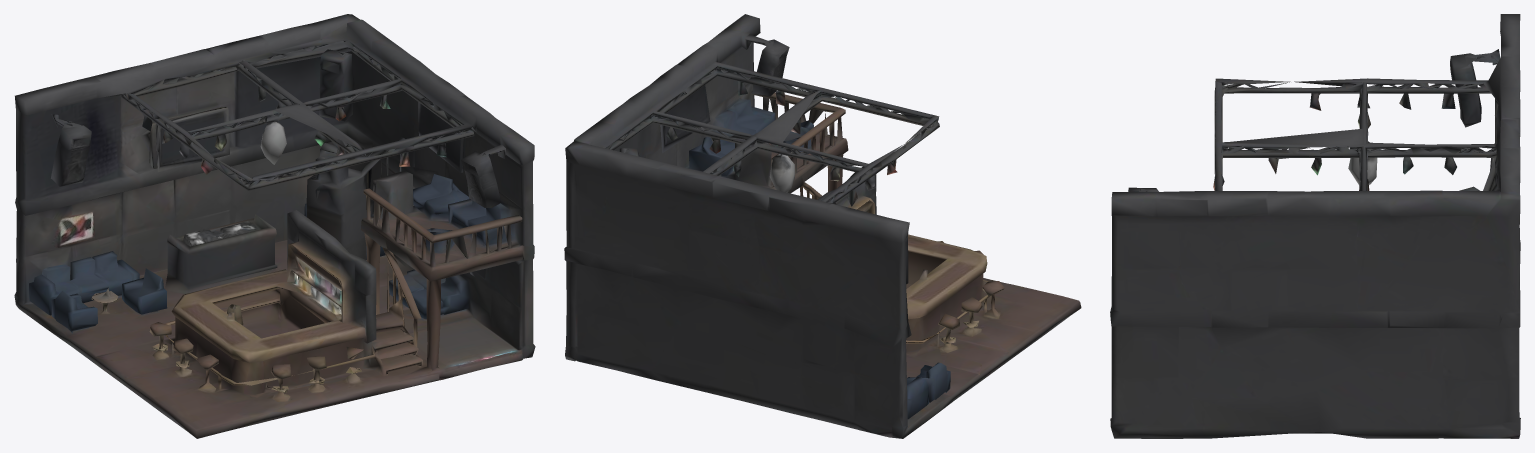
The model's file is nightclub_interior.glb.
3 views of the same model, side by side, from view 1: azimuth 30°, elevation 25°; view 2: azimuth 150°, elevation 25°; view 3: azimuth 270°, elevation 25° (orthographic). The views are drawn at different scales.
Visible parts, largest first — view 1: tripo_node_c39d8eaf-20e6-41eb-b286-056ecdfb9d40; view 2: tripo_node_c39d8eaf-20e6-41eb-b286-056ecdfb9d40; view 3: tripo_node_c39d8eaf-20e6-41eb-b286-056ecdfb9d40.
Boxes of the visible parts, bbox=[...] form: tripo_node_c39d8eaf-20e6-41eb-b286-056ecdfb9d40: bbox=[14, 14, 535, 438]; tripo_node_c39d8eaf-20e6-41eb-b286-056ecdfb9d40: bbox=[564, 14, 1081, 438]; tripo_node_c39d8eaf-20e6-41eb-b286-056ecdfb9d40: bbox=[1110, 14, 1520, 438].
Size of the model in its own units: 1 by 0.6004 by 0.9291.
1 material, 1 textured.
